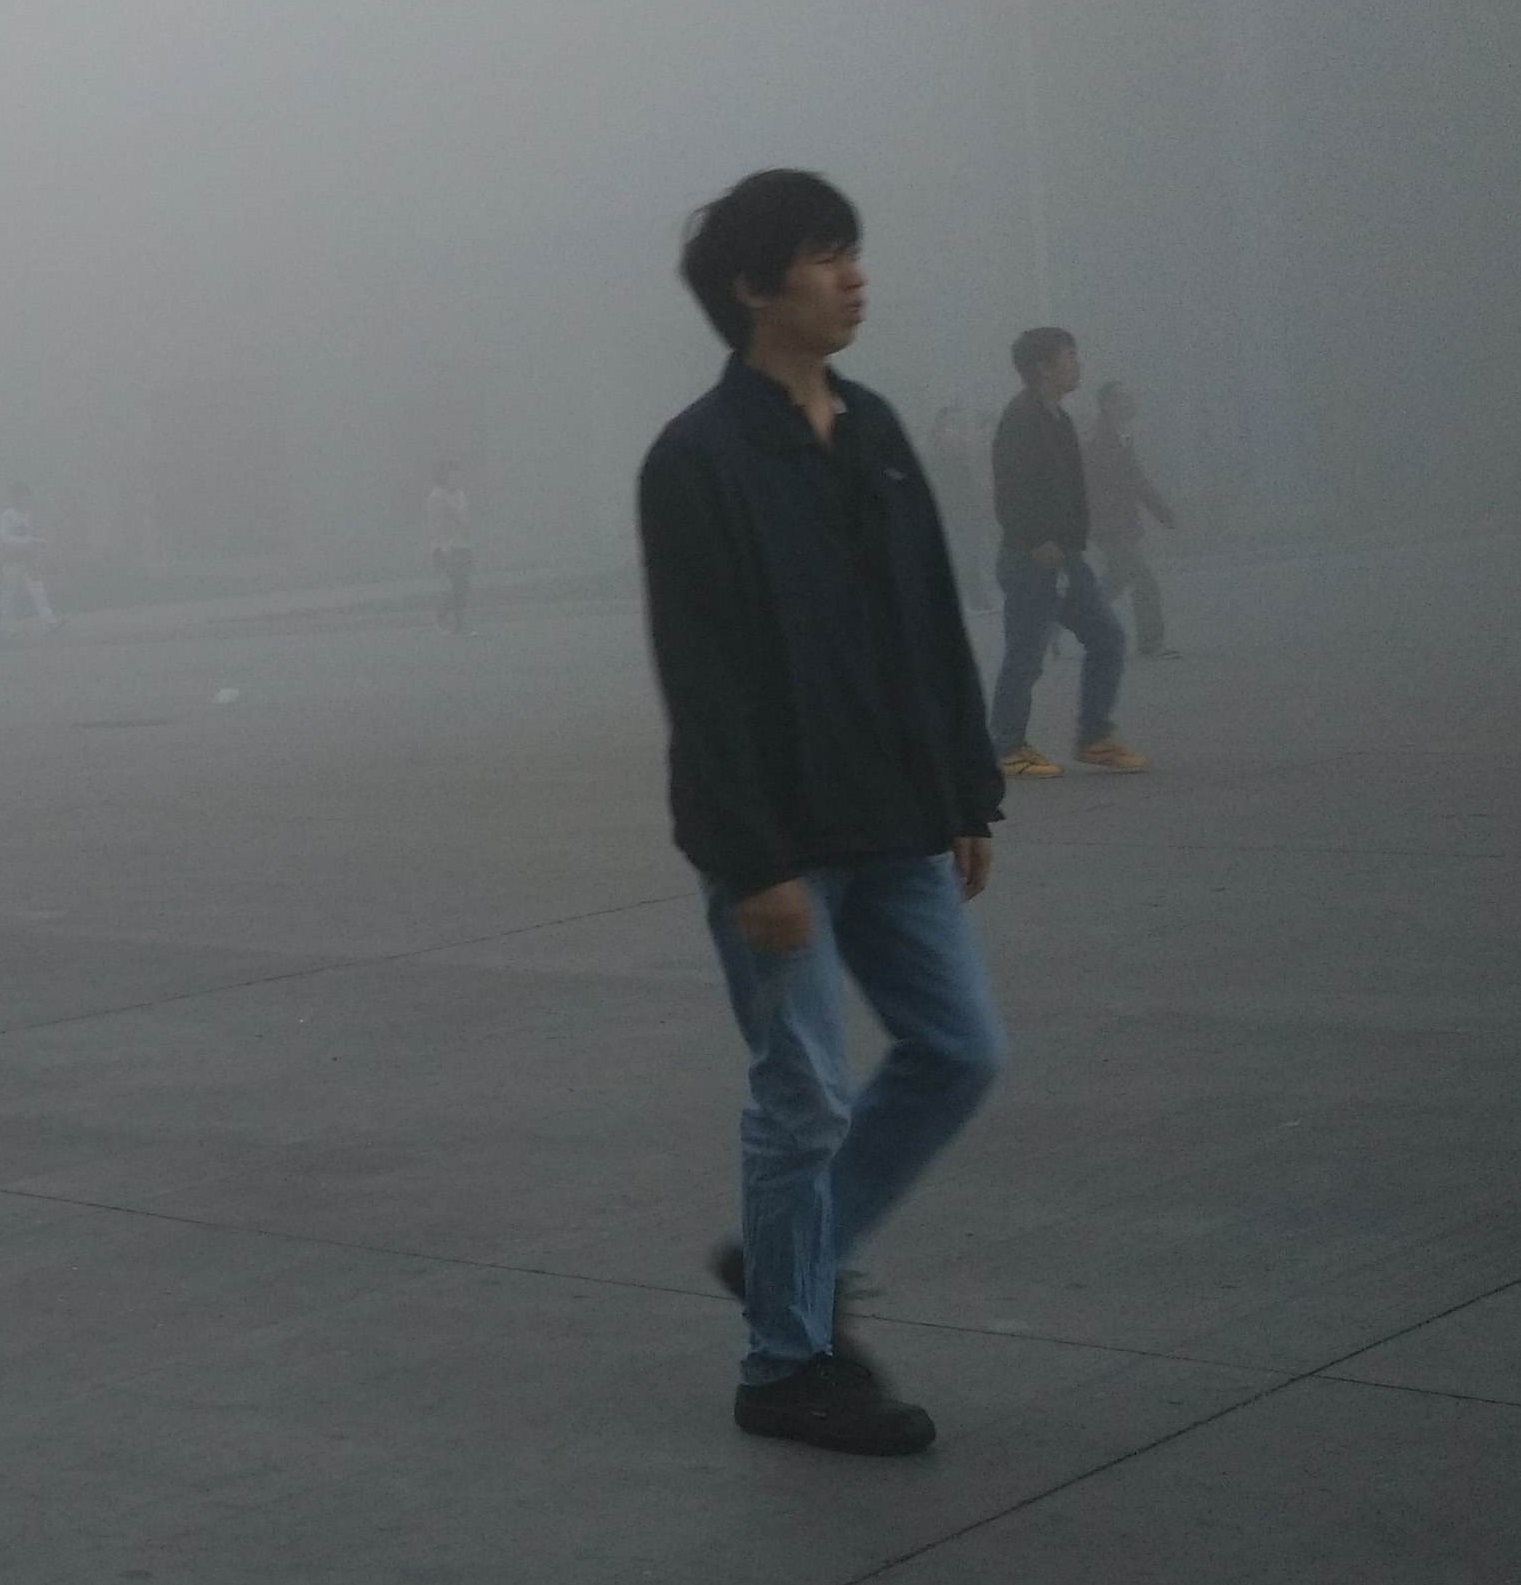person: (632, 161, 1012, 1461), (968, 320, 1151, 781), (1061, 376, 1200, 668), (922, 408, 1001, 620), (417, 456, 490, 637), (5, 482, 68, 640)
